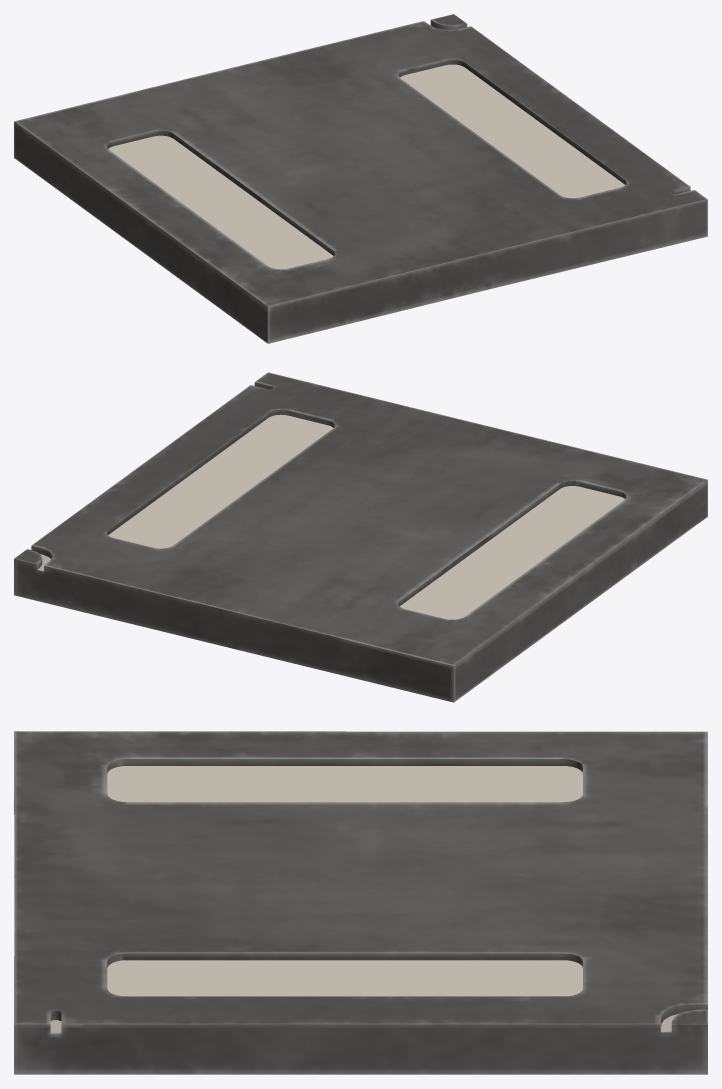
File: FUT0510030.fbx
The picture shows the model from 3 angles, top to bottom: view 1: azimuth 30°, elevation 25°; view 2: azimuth 150°, elevation 25°; view 3: azimuth 270°, elevation 25°; orthographic projection. The views are drawn at different scales.
Visible parts, largest first — view 1: smFUT0510030; view 2: smFUT0510030; view 3: smFUT0510030.
Boxes of the visible parts, <box> form: smFUT0510030: <box>14,14,707,343</box>; smFUT0510030: <box>14,372,707,702</box>; smFUT0510030: <box>14,731,707,1074</box>.
Bounding box in the file's own units: 168 × 13.49 × 168.
1 material, 1 textured.
